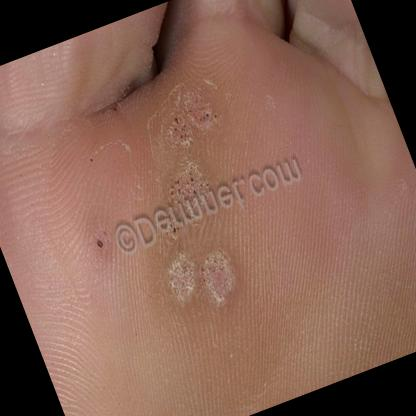Warts: (190, 236, 252, 318), (156, 241, 212, 315)
